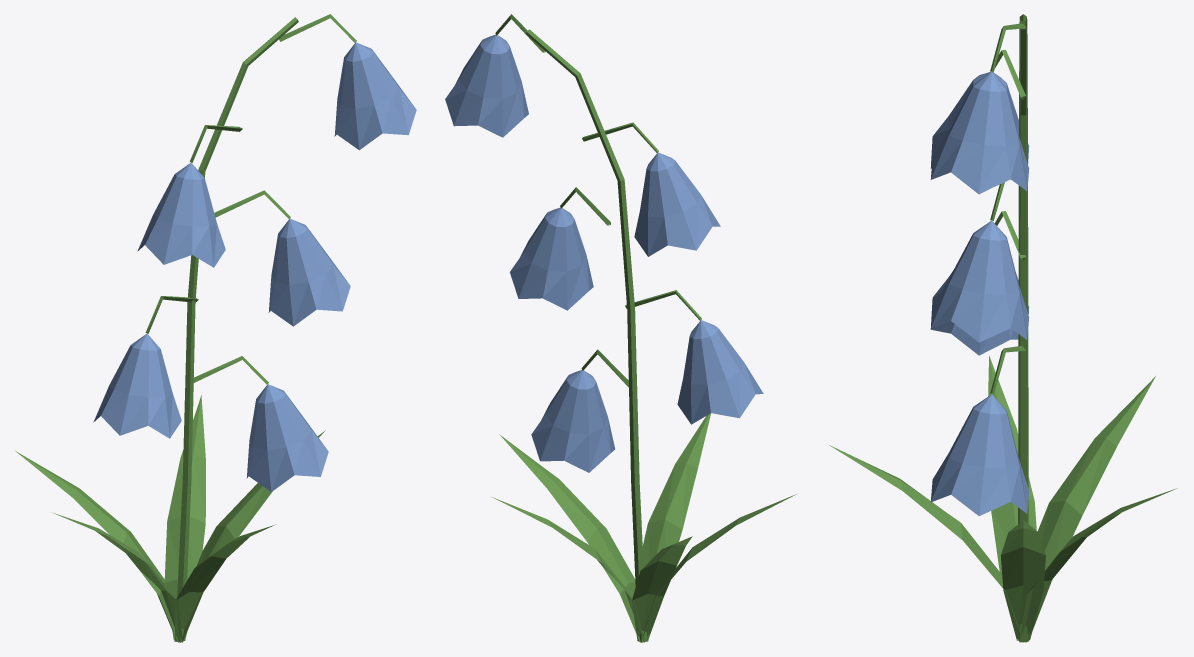
The model's file is flower_bluebell.glb.
3 renders of one model, left to right at view 1: azimuth 30°, elevation 25°; view 2: azimuth 150°, elevation 25°; view 3: azimuth 270°, elevation 25°, orthographic. The views are drawn at different scales.
Visible parts, largest first — view 1: flower_bluebell; view 2: flower_bluebell; view 3: flower_bluebell.
Boxes of the visible parts, x1,y1,x2,y2 form: flower_bluebell: (15, 14, 416, 642); flower_bluebell: (445, 14, 796, 642); flower_bluebell: (829, 14, 1177, 642).
Bounding box in the file's own units: 0.2459 × 0.39 × 0.179.
